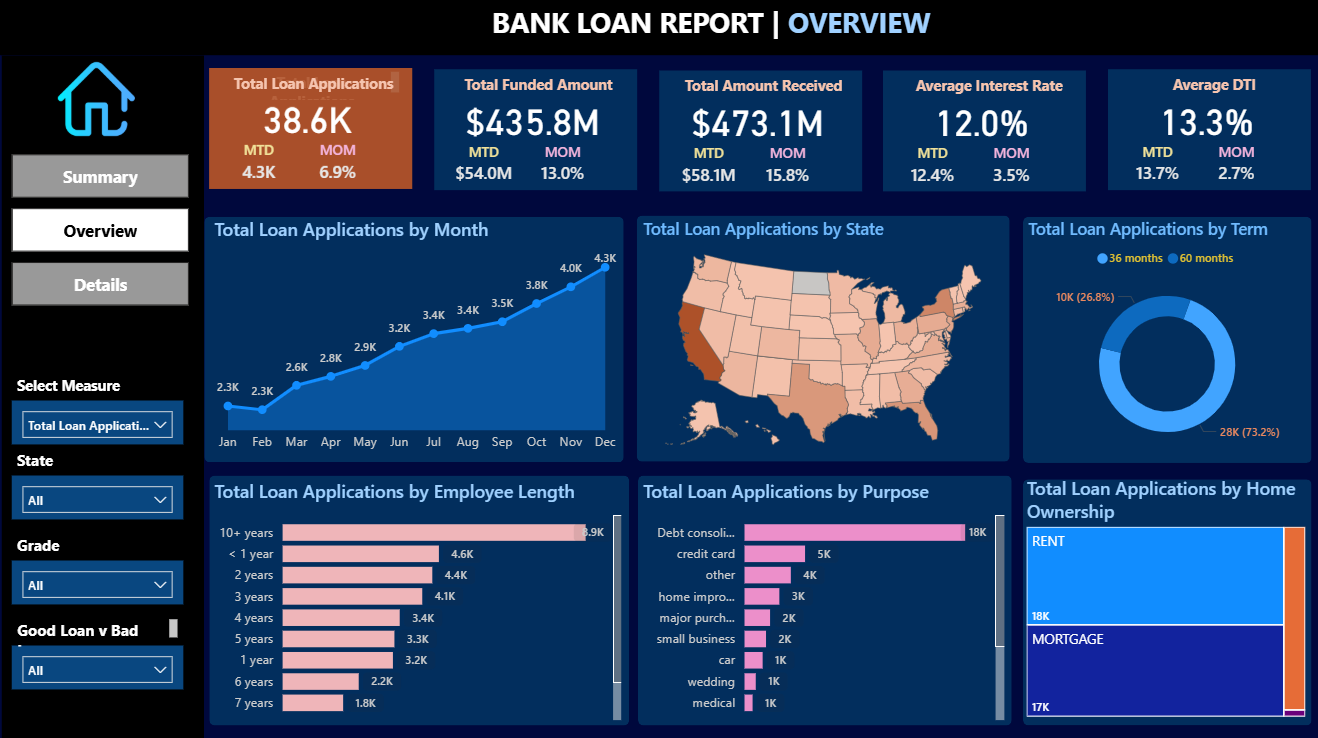

The dashboard page shown, as its layout file describes it:
{"tool":"powerbi","page":{"name":"Overview","canvas":[1280,720],"ordinal":1},"visuals":[{"type":"shape","box":[0,0,1280.6,55.6],"z":0},{"type":"shape","box":[3.6,55.5,195.4,664.7],"z":1000},{"type":"textbox","box":[464.5,0,462.1,47.1],"z":2000},{"type":"group","id":"g1","title":"Group 1","box":[203.9,66.9,195.8,117.3],"z":3000},{"type":"shape","box":[203.9,67.6,195.8,116.7],"z":3000,"group":"g1"},{"type":"shape","box":[203.9,67.6,195.8,116.7],"z":3000,"group":"g6"},{"type":"shape","box":[420.7,68.8,195.8,116.7],"z":3000,"group":"g2"},{"type":"shape","box":[1071.3,68.8,195.8,116.7],"z":3000,"group":"g5"},{"type":"shape","box":[637.6,70,195.8,116.7],"z":3000,"group":"g3"},{"type":"shape","box":[854.5,70,195.8,116.7],"z":3000,"group":"g4"},{"type":"group","id":"g2","title":"Group 1","box":[420.7,68.8,196.6,117],"z":4000},{"type":"card","fields":{"Values":["banking_loan.Total Loan Applications"]},"box":[217.8,94,161.1,43.1],"z":4000,"group":"g1"},{"type":"card","fields":{"Values":["banking_loan.Total Loan Applications"]},"box":[217.8,94,161.1,43.1],"z":4000,"group":"g6"},{"type":"card","fields":{"Values":["banking_loan.Total Funded Amount"]},"box":[434.6,95.2,161.1,43.1],"z":4000,"group":"g2"},{"type":"card","fields":{"Values":["banking_loan.Average Dti"]},"box":[1085.2,95.2,161.1,43.1],"z":4000,"group":"g5"},{"type":"card","fields":{"Values":["banking_loan.Total Amount Received"]},"box":[651.5,96.4,161.1,43.1],"z":4000,"group":"g3"},{"type":"card","fields":{"Values":["banking_loan.Avg Interest Rate"]},"box":[868.4,96.4,161.1,43.1],"z":4000,"group":"g4"},{"type":"textbox","box":[220.9,66.9,171.3,37.4],"z":5000,"group":"g1"},{"type":"textbox","box":[217.8,67.6,172.2,37.5],"z":5000,"group":"g6"},{"type":"textbox","box":[434.6,68.8,172.2,37.5],"z":5000,"group":"g2"},{"type":"textbox","box":[1085.2,68.8,172.2,37.5],"z":5000,"group":"g5"},{"type":"textbox","box":[651.5,70,172.2,37.5],"z":5000,"group":"g3"},{"type":"textbox","box":[868.4,70,172.2,37.5],"z":5000,"group":"g4"},{"type":"shape","box":[199.1,211.1,405,237],"z":5000},{"type":"group","id":"g3","title":"Group 1","box":[637.6,70,196.6,117],"z":6000},{"type":"card","title":"MTD","fields":{"Values":["banking_loan.MTD Loan Applications"]},"box":[217.8,137,66.7,47.2],"z":6000,"group":"g1"},{"type":"card","title":"MTD","fields":{"Values":["banking_loan.MTD Loan Applications"]},"box":[217.8,137,66.7,47.2],"z":6000,"group":"g6"},{"type":"card","title":"MTD","fields":{"Values":["banking_loan.MTD Funded Amount"]},"box":[434.6,138.2,66.7,47.2],"z":6000,"group":"g2"},{"type":"card","title":"MTD","fields":{"Values":["banking_loan.MTD Avg Dti"]},"box":[1085.2,138.2,66.7,47.2],"z":6000,"group":"g5"},{"type":"card","title":"MTD","fields":{"Values":["banking_loan.MTD Total Amount Received"]},"box":[651.5,139.4,66.7,47.2],"z":6000,"group":"g3"},{"type":"card","title":"MTD","fields":{"Values":["banking_loan.MTD Avg Interest Rate"]},"box":[868.4,139.4,66.7,47.2],"z":6000,"group":"g4"},{"type":"group","id":"g4","title":"Group 1","box":[854.5,70,196.6,117],"z":7000},{"type":"card","title":"MOM","fields":{"Values":["banking_loan.MOM Loan Applications"]},"box":[298.3,137,59.7,47.2],"z":7000,"group":"g1"},{"type":"card","title":"MOM","fields":{"Values":["banking_loan.MOM Loan Applications"]},"box":[298.3,137,59.7,47.2],"z":7000,"group":"g6"},{"type":"card","title":"MOM","fields":{"Values":["banking_loan.MOM Funded Amount"]},"box":[515.1,138.2,59.7,47.2],"z":7000,"group":"g2"},{"type":"card","title":"MOM","fields":{"Values":["banking_loan.MOM Avg Dti"]},"box":[1165.7,138.2,59.7,47.2],"z":7000,"group":"g5"},{"type":"card","title":"MOM","fields":{"Values":["banking_loan.MOM Total Amount Received"]},"box":[732,139.4,59.7,47.2],"z":7000,"group":"g3"},{"type":"card","title":"MOM","fields":{"Values":["banking_loan.MOM Avg Interest Rate"]},"box":[948.9,139.4,59.7,47.2],"z":7000,"group":"g4"},{"type":"group","id":"g5","title":"Group 1","box":[1071.3,68.8,196.6,117],"z":8000},{"type":"group","id":"g6","title":"Group 1","box":[203.9,67.6,196.6,117],"z":9000},{"type":"textbox","box":[13.3,430.7,127.9,30.2],"z":10000},{"type":"slicer","fields":{"Values":["banking_loan.address_state"]},"box":[13.3,460.9,165.3,42.2],"z":11000},{"type":"slicer","fields":{"Values":["banking_loan.grade"]},"box":[13.3,542.9,165.3,42.2],"z":12000},{"type":"textbox","box":[13.3,512.7,142.4,41],"z":13000},{"type":"slicer","fields":{"Values":["banking_loan.Good vs Bad Loan"]},"box":[13.3,624.9,165.3,42.2],"z":14000},{"type":"textbox","box":[13.3,594.8,165.3,36.2],"z":15000},{"type":"slicer","fields":{"Values":["Select Measure.Select Measure"]},"box":[13.3,388.5,165.3,42.2],"z":16000},{"type":"areaChart","fields":{"Y":["banking_loan.Total Loan Applications"],"Category":["Date Table.Month"]},"box":[203.9,211.1,400.5,235.3],"z":17000},{"type":"textbox","box":[13.3,359.5,165.3,29],"z":18000},{"type":"shape","box":[616.5,209.9,360,237.7],"z":19000},{"type":"shapeMap","fields":{"Value":["banking_loan.Total Loan Applications"],"Category":["banking_loan.address_state"]},"box":[617.7,211.1,358.3,235.3],"z":20000},{"type":"shape","box":[989.3,211.1,278.7,237.7],"z":21000},{"type":"donutChart","fields":{"Y":["banking_loan.Total Loan Applications"],"Category":["banking_loan.term"]},"box":[989.3,211.1,278.7,235.3],"z":22000},{"type":"shape","box":[203.9,460.9,405.4,241.3],"z":23000},{"type":"barChart","fields":{"Y":["banking_loan.Total Loan Applications"],"Category":["banking_loan.emp_length"]},"box":[203.9,464.5,403,237.7],"z":24000},{"type":"shape","box":[617.7,460.9,360.7,241.3],"z":25000},{"type":"barChart","fields":{"Y":["banking_loan.Total Loan Applications"],"Category":["banking_loan.purpose"]},"box":[617.7,464.5,358.3,237.7],"z":26000},{"type":"shape","box":[989.3,464.5,278.7,237.7],"z":27000},{"type":"treemap","fields":{"Values":["banking_loan.Total Loan Applications"],"Group":["banking_loan.home_ownership"]},"box":[988.1,460.9,278.7,237.7],"z":28000},{"type":"pageNavigator","box":[13.3,150.8,171.3,147.2],"z":29000},{"type":"image","box":[24.1,55.5,142.4,84.5],"z":30000}]}

Visuals, with their boxes in screenshot pixels (x1, y1, x2, y2), scaled from the page's 1280x720 canvas onto the 1318x738 screenshot:
shape: [0,0,1317,57]
shape: [4,57,205,737]
textbox: [478,0,954,48]
"Group 1" group: [210,69,412,189]
shape: [210,69,412,189]
shape: [210,69,412,189]
shape: [433,71,635,190]
shape: [1103,71,1305,190]
shape: [657,72,858,191]
shape: [880,72,1081,191]
"Group 1" group: [433,71,636,190]
card - banking_loan.Total Loan Applications: [224,96,390,141]
card - banking_loan.Total Loan Applications: [224,96,390,141]
card - banking_loan.Total Funded Amount: [448,98,613,142]
card - banking_loan.Average Dti: [1117,98,1283,142]
card - banking_loan.Total Amount Received: [671,99,837,143]
card - banking_loan.Avg Interest Rate: [894,99,1060,143]
textbox: [227,69,404,107]
textbox: [224,69,402,108]
textbox: [448,71,625,109]
textbox: [1117,71,1295,109]
textbox: [671,72,848,110]
textbox: [894,72,1071,110]
shape: [205,216,622,459]
"Group 1" group: [657,72,859,192]
"MTD" card: [224,140,293,189]
"MTD" card: [224,140,293,189]
"MTD" card: [448,142,516,190]
"MTD" card: [1117,142,1186,190]
"MTD" card: [671,143,740,191]
"MTD" card: [894,143,963,191]
"Group 1" group: [880,72,1082,192]
"MOM" card: [307,140,369,189]
"MOM" card: [307,140,369,189]
"MOM" card: [530,142,592,190]
"MOM" card: [1200,142,1262,190]
"MOM" card: [754,143,815,191]
"MOM" card: [977,143,1039,191]
"Group 1" group: [1103,71,1306,190]
"Group 1" group: [210,69,412,189]
textbox: [14,441,145,472]
slicer - banking_loan.address_state: [14,472,184,516]
slicer - banking_loan.grade: [14,556,184,600]
textbox: [14,526,160,568]
slicer - banking_loan.Good vs Bad Loan: [14,641,184,684]
textbox: [14,610,184,647]
slicer - Select Measure.Select Measure: [14,398,184,441]
areaChart - banking_loan.Total Loan Applications x Date Table.Month: [210,216,622,458]
textbox: [14,368,184,398]
shape: [635,215,1005,459]
shapeMap - banking_loan.Total Loan Applications x banking_loan.address_state: [636,216,1005,458]
shape: [1019,216,1306,460]
donutChart - banking_loan.Total Loan Applications x banking_loan.term: [1019,216,1306,458]
shape: [210,472,627,720]
barChart - banking_loan.Total Loan Applications x banking_loan.emp_length: [210,476,625,720]
shape: [636,472,1007,720]
barChart - banking_loan.Total Loan Applications x banking_loan.purpose: [636,476,1005,720]
shape: [1019,476,1306,720]
treemap - banking_loan.Total Loan Applications x banking_loan.home_ownership: [1017,472,1304,716]
pageNavigator: [14,155,190,305]
image: [25,57,171,144]
